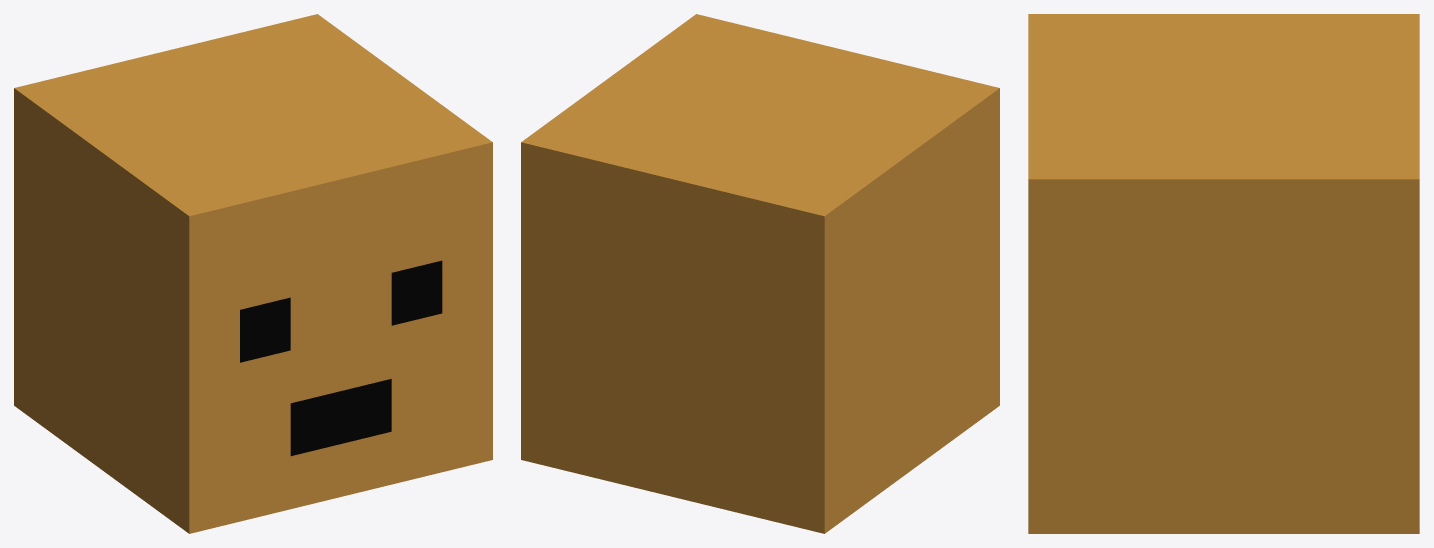
File: Human1-3.obj
3 views of the same model, side by side, from view 1: azimuth 30°, elevation 25°; view 2: azimuth 150°, elevation 25°; view 3: azimuth 270°, elevation 25° (orthographic). The views are drawn at different scales.
Size of the model in its own units: 0.6 by 0.6 by 0.6.
